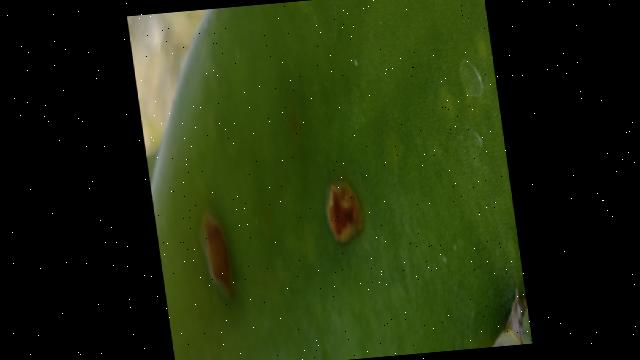stemcanker: (193, 209, 240, 306), (321, 171, 369, 248)
